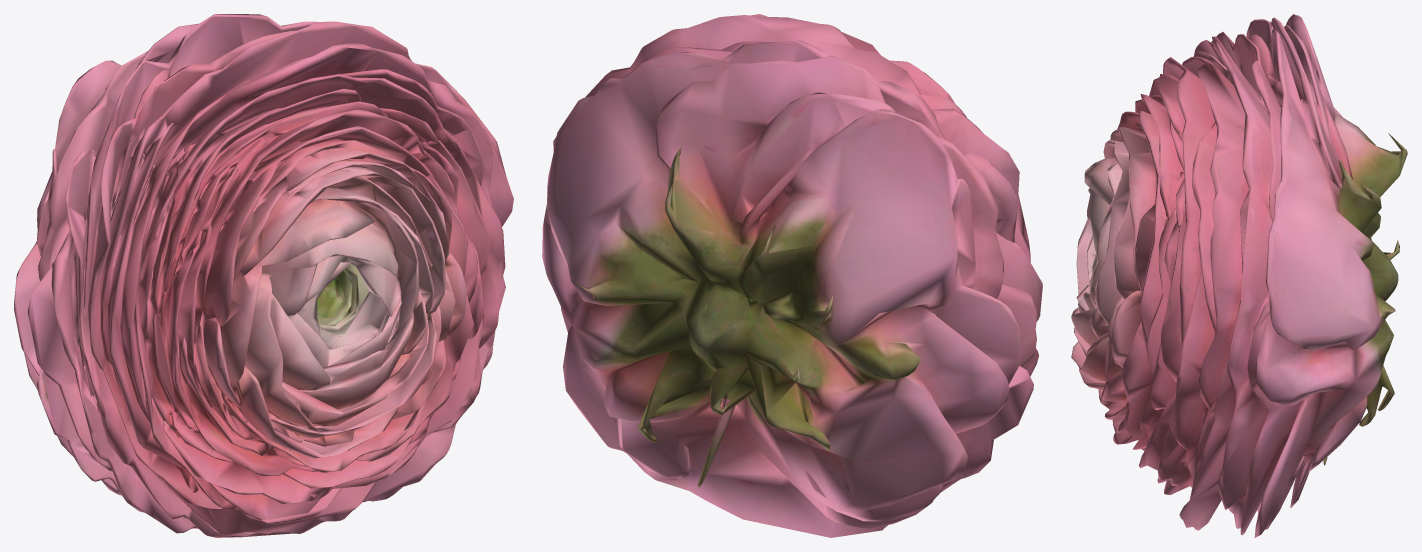
Rendered from fl-flower-ranunculus.glb.
3 views of the same model, side by side, from view 1: azimuth 30°, elevation 25°; view 2: azimuth 150°, elevation 25°; view 3: azimuth 270°, elevation 25° (orthographic). The views are drawn at different scales.
Parts seen in each view (by area): view 1: node_0; view 2: node_0; view 3: node_0.
Part boxes in pixels (x1,y1,x2,y2): node_0: (14, 14, 513, 537); node_0: (542, 14, 1042, 537); node_0: (1071, 14, 1407, 537).
Size of the model in its own units: 1.1 by 1.09 by 0.7306.
Materials: 1 (1 with a texture image).
